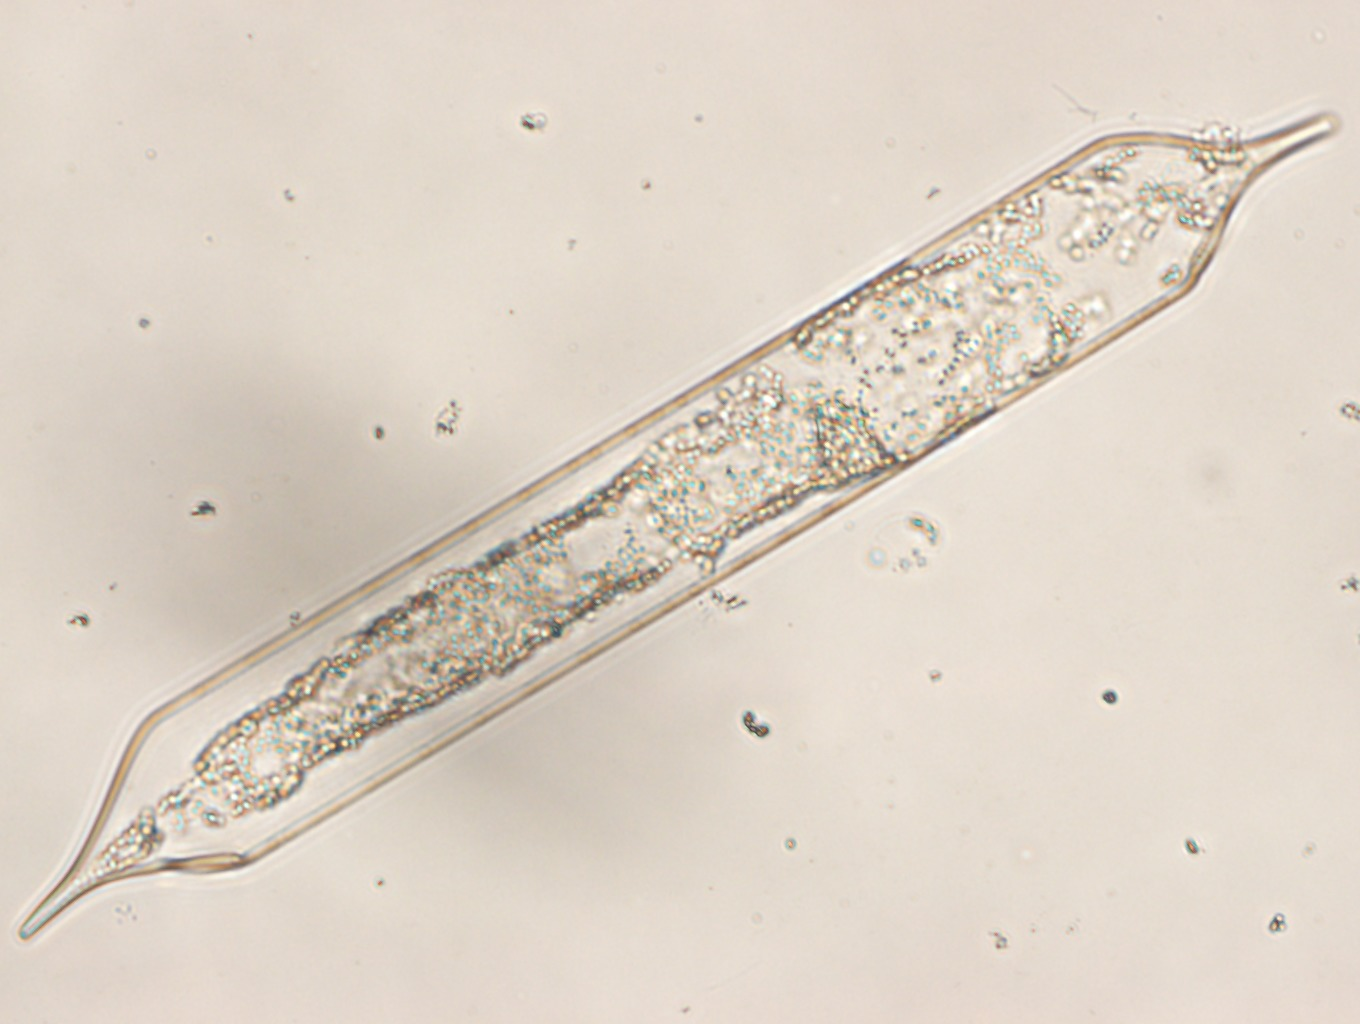rhizosolenia: (17, 110, 1343, 940)
